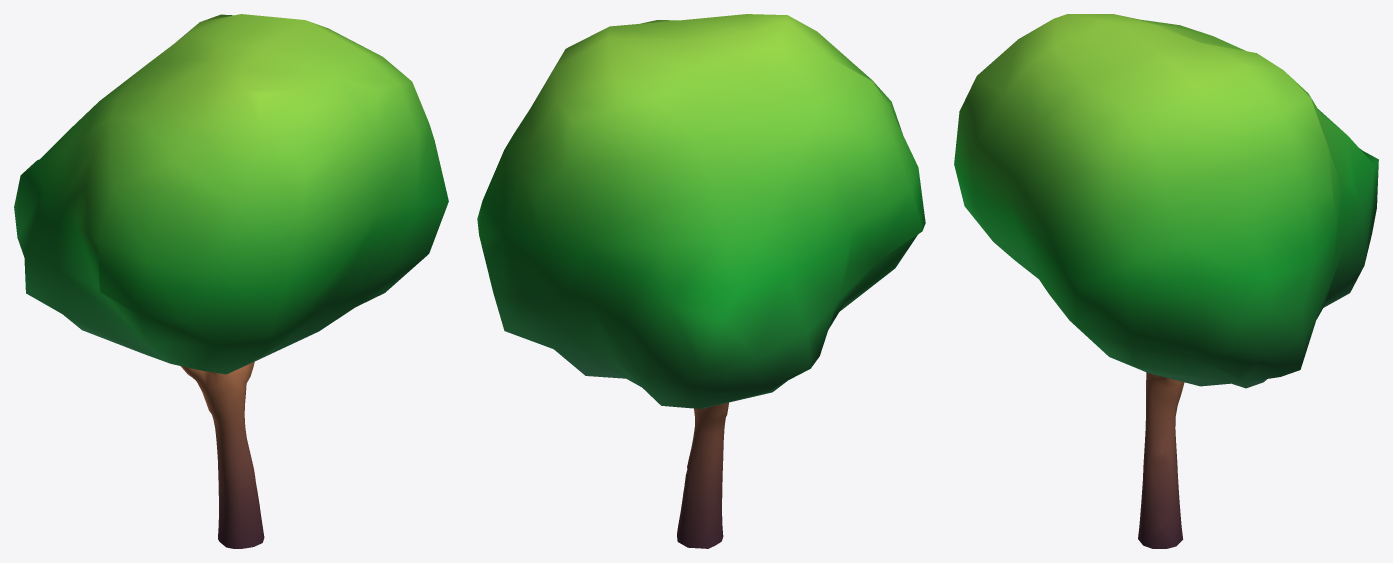
Rendered from trees2.glb.
3 views of the same model, side by side, from view 1: azimuth 30°, elevation 25°; view 2: azimuth 150°, elevation 25°; view 3: azimuth 270°, elevation 25° (orthographic).
Parts seen in each view (by area): view 1: Tree5; view 2: Tree5; view 3: Tree5.
Boxes of the visible parts, x1,y1,x2,y2 form: Tree5: [14, 14, 448, 548]; Tree5: [477, 14, 925, 548]; Tree5: [954, 14, 1378, 548].
Size of the model in its own units: 7.76 by 10.02 by 7.65.
Materials: 1 (1 with a texture image).
